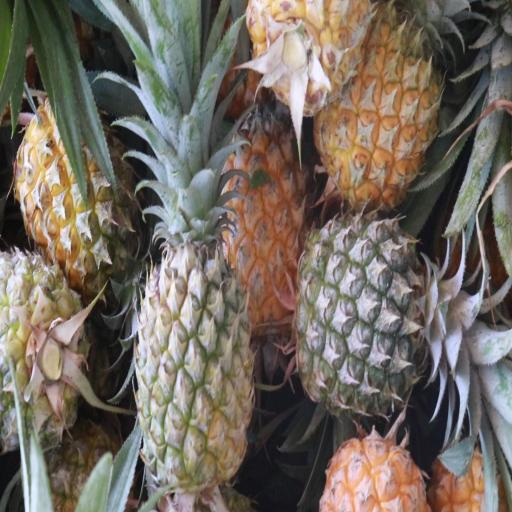------------------------------: (18, 102, 139, 290), (0, 254, 86, 449)
Pineapple - v8 v1: (314, 22, 442, 207), (223, 101, 312, 328)
